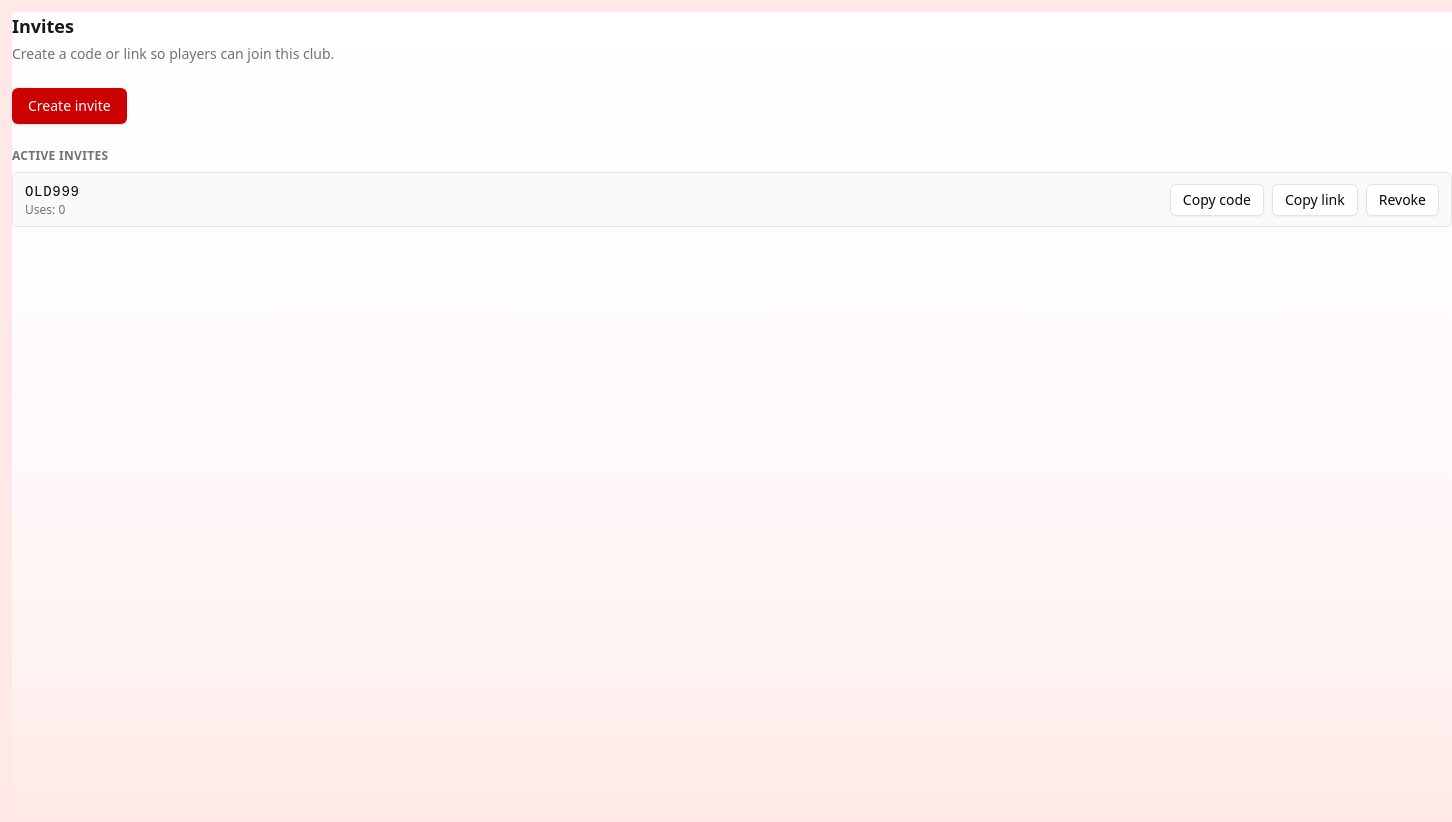
Test: ClubInvitesPanel › keeps a created invite when the list refresh fails
Expected: the text "OLD999" is shown, [25, 184, 80, 200]
What coordinates should you click on to do the following:
click the button "Create invite"
I would click on:
 (69, 106)
Its box is [12, 88, 127, 124].
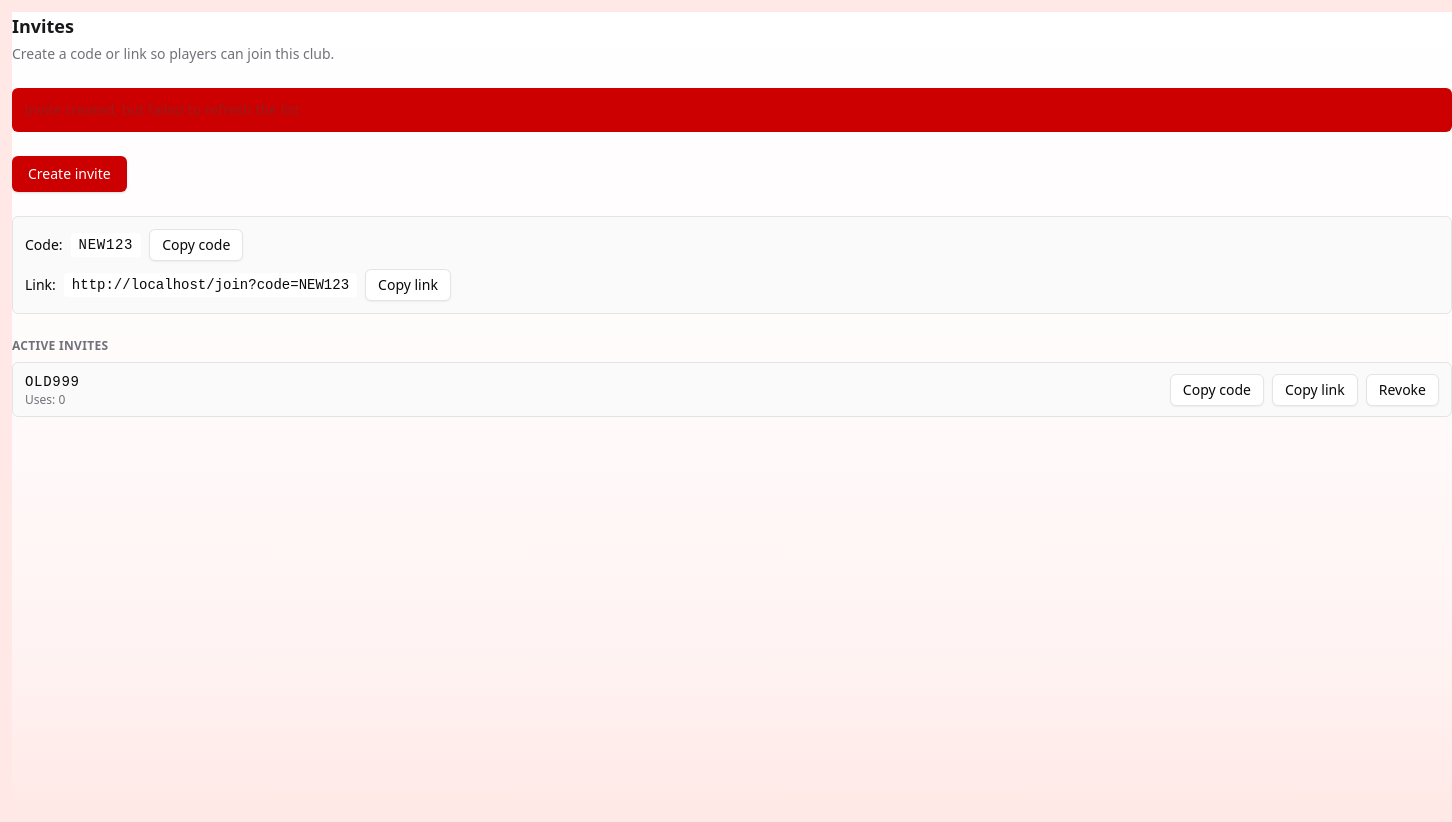
Expected: the text "OLD999" is shown, [25, 374, 80, 390]
Expected: the text "NEW123" is shown, [71, 233, 141, 257]
Expected: the text "Invite created, but failed to refresh the list" is shown, [12, 88, 1451, 132]
